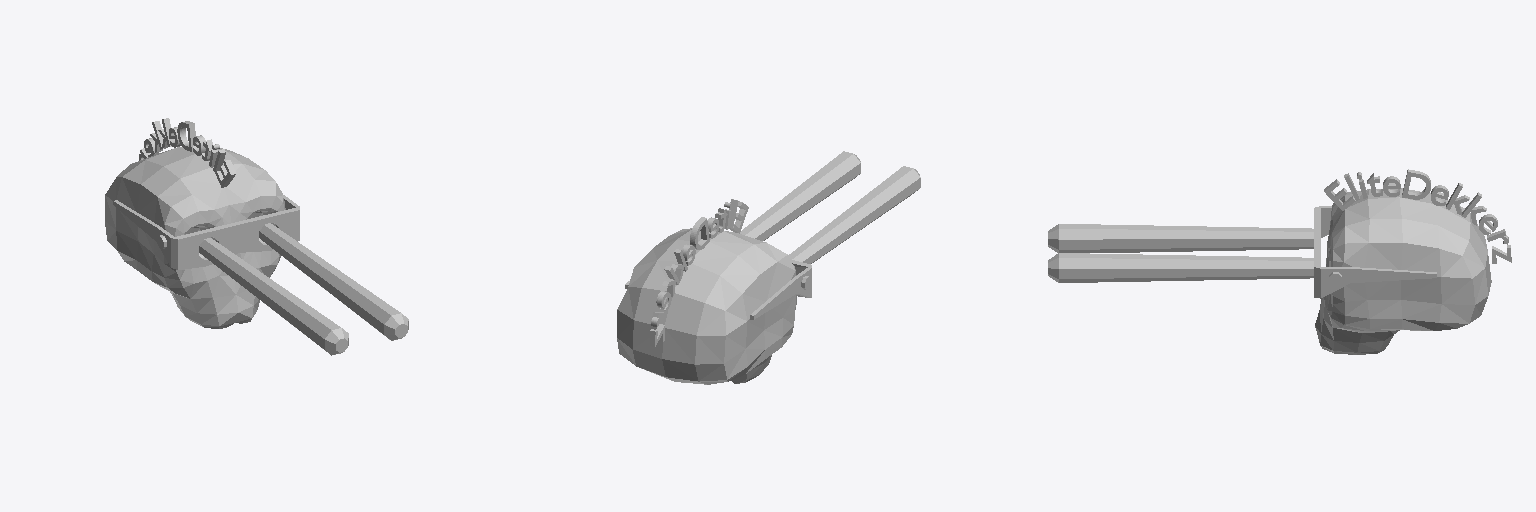
The model's file is SkullNoWire.obj.
The picture shows the model from 3 angles: view 1: azimuth 30°, elevation 25°; view 2: azimuth 150°, elevation 25°; view 3: azimuth 270°, elevation 25°; orthographic projection.
Bounding box in the file's own units: 2.18 × 2.62 × 6.44.